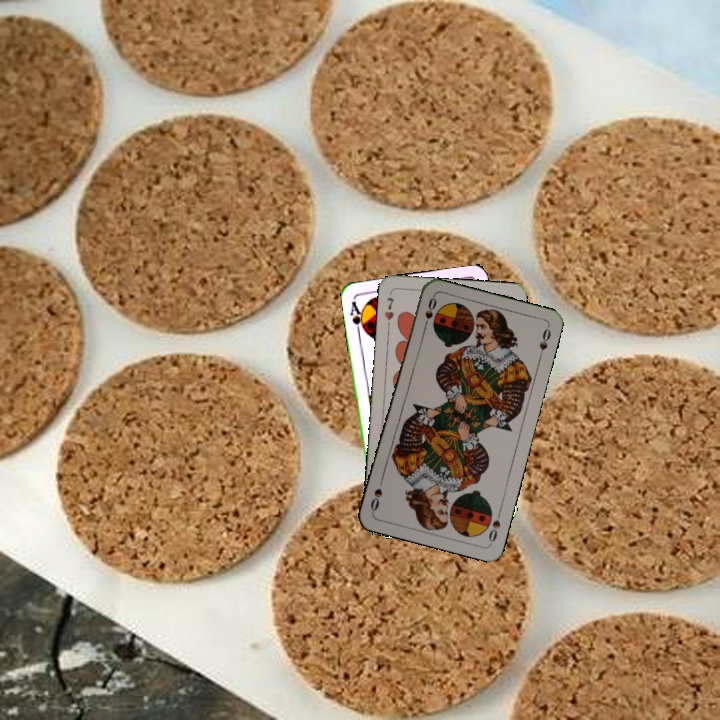H7: (381, 293, 397, 330)
SA: (346, 295, 368, 335)
SO: (419, 293, 439, 333), (485, 506, 504, 545)
